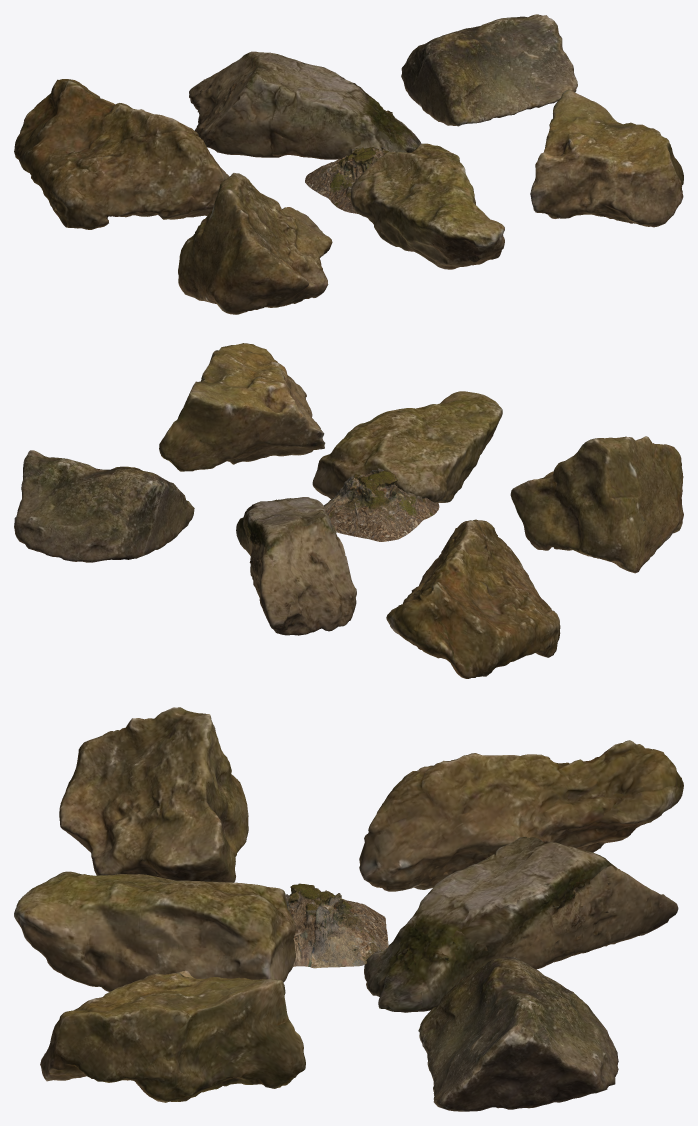
File: ground-details.glb
3 renders of one model, top to bottom at view 1: azimuth 30°, elevation 25°; view 2: azimuth 150°, elevation 25°; view 3: azimuth 270°, elevation 25°, orthographic. The views are drawn at different scales.
Visible parts, largest first — view 1: rock_moss_set_01_rock01, rock_moss_set_01_rock02, rock_moss_set_01_rock06, rock_moss_set_01_rock04, rock_moss_set_01_rock03, rock_moss_set_01_rock05, tree_stump_01; view 2: rock_moss_set_01_rock04, rock_moss_set_01_rock01, rock_moss_set_01_rock03, rock_moss_set_01_rock06, rock_moss_set_01_rock05, rock_moss_set_01_rock02, tree_stump_01; view 3: rock_moss_set_01_rock01, rock_moss_set_01_rock02, rock_moss_set_01_rock05, rock_moss_set_01_rock04, rock_moss_set_01_rock06, rock_moss_set_01_rock03, tree_stump_01.
Boxes of the visible parts, x1,y1,x2,y2 form: rock_moss_set_01_rock01: (14,79,229,229); rock_moss_set_01_rock02: (189,51,421,159); rock_moss_set_01_rock06: (530,89,683,227); rock_moss_set_01_rock04: (178,173,332,314); rock_moss_set_01_rock03: (401,14,577,126); rock_moss_set_01_rock05: (350,143,504,269); tree_stump_01: (305,146,390,213); rock_moss_set_01_rock04: (510,436,683,573); rock_moss_set_01_rock01: (386,519,560,678); rock_moss_set_01_rock03: (14,450,194,562); rock_moss_set_01_rock06: (159,343,325,471); rock_moss_set_01_rock05: (312,391,502,502); rock_moss_set_01_rock02: (236,497,356,635); tree_stump_01: (323,468,439,541); rock_moss_set_01_rock01: (359,740,683,891); rock_moss_set_01_rock02: (364,836,678,1012); rock_moss_set_01_rock05: (14,871,295,991); rock_moss_set_01_rock04: (59,707,248,882); rock_moss_set_01_rock06: (40,970,305,1102); rock_moss_set_01_rock03: (418,956,618,1111); tree_stump_01: (285,883,388,968).
Size of the model in its own units: 8 by 1.77 by 6.95.
2 materials, 2 textured.
